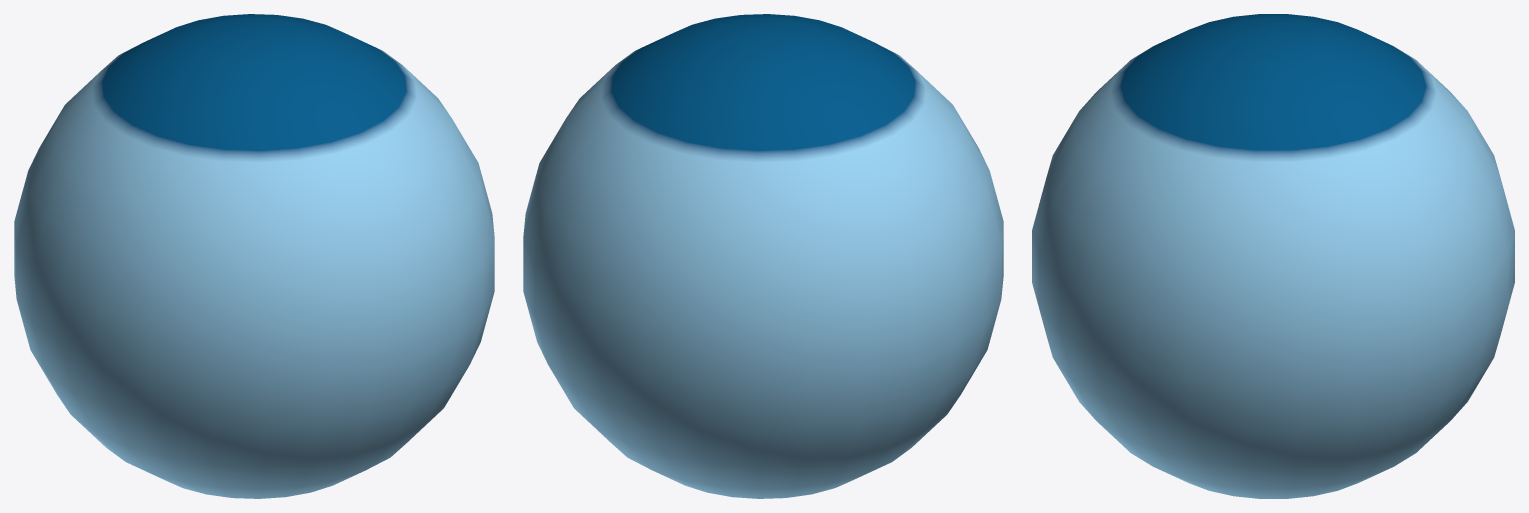
Rendered from SHOT_PUT_woman.FBX.
The picture shows the model from 3 angles, left to right: view 1: azimuth 30°, elevation 25°; view 2: azimuth 150°, elevation 25°; view 3: azimuth 270°, elevation 25°; orthographic projection.
Parts seen in each view (by area): view 1: SHOT_PUT_woman; view 2: SHOT_PUT_woman; view 3: SHOT_PUT_woman.
Part boxes in pixels (box(x1,y1,x2,y2)): SHOT_PUT_woman: box(14, 14, 494, 498); SHOT_PUT_woman: box(523, 14, 1003, 498); SHOT_PUT_woman: box(1032, 14, 1514, 498).
Bounding box in the file's own units: 0.9855 × 1 × 0.9927.
